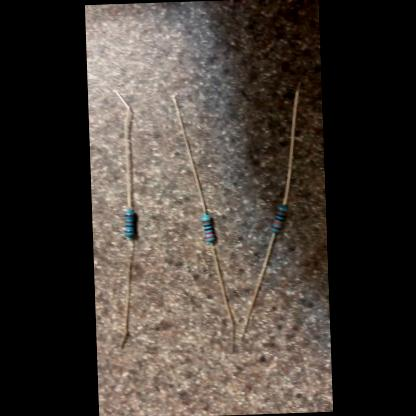resistor: (269, 203, 286, 232), (200, 214, 216, 243), (123, 210, 134, 238)
wire: (236, 233, 278, 340), (171, 94, 205, 214), (277, 80, 304, 204), (208, 242, 234, 353), (112, 88, 132, 210), (115, 241, 134, 349)
